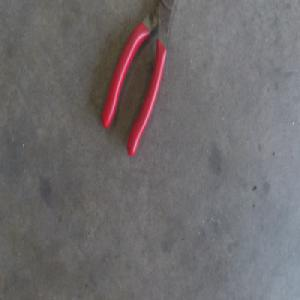Pliers: (101, 0, 175, 158)
